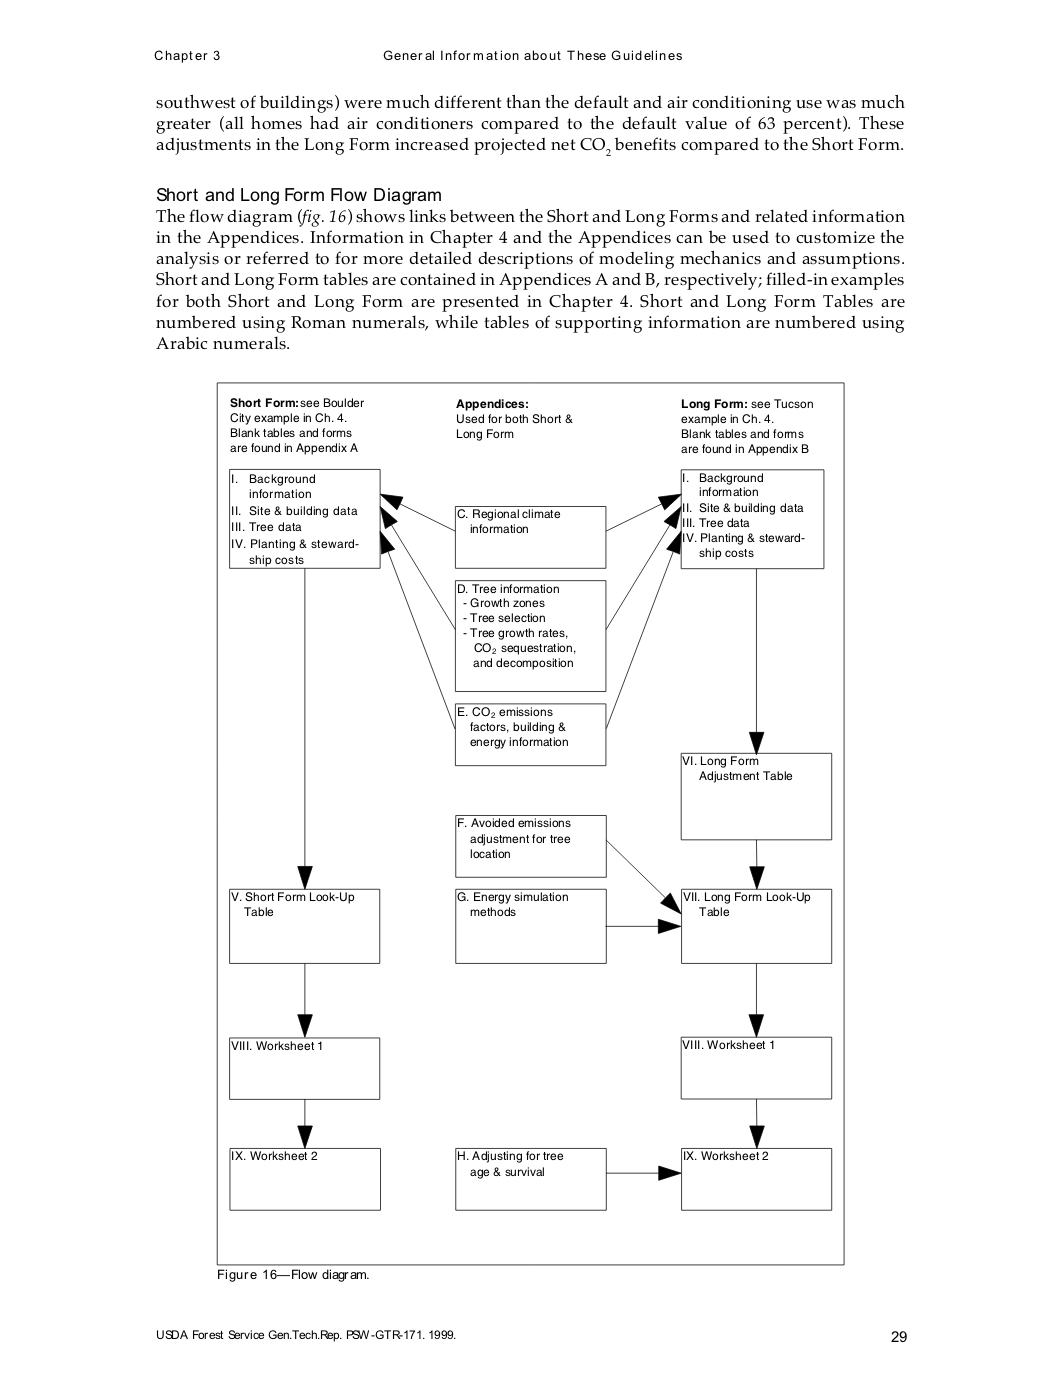figure: (216, 381, 844, 1266)
